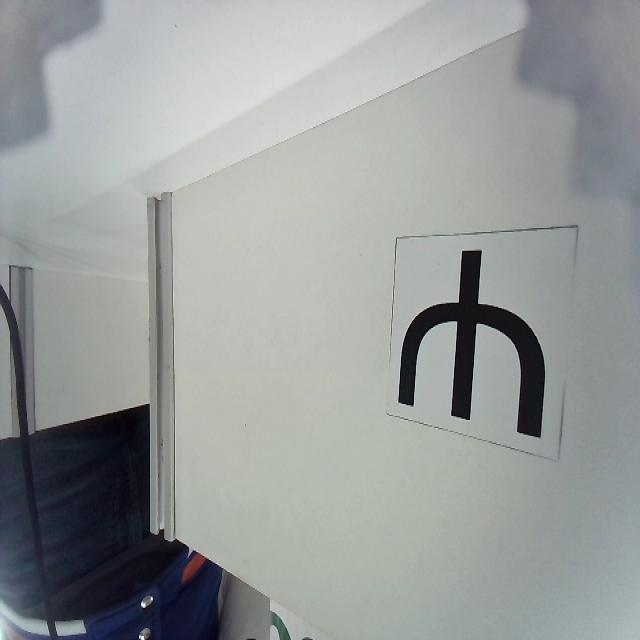F: (397, 250, 545, 443)
